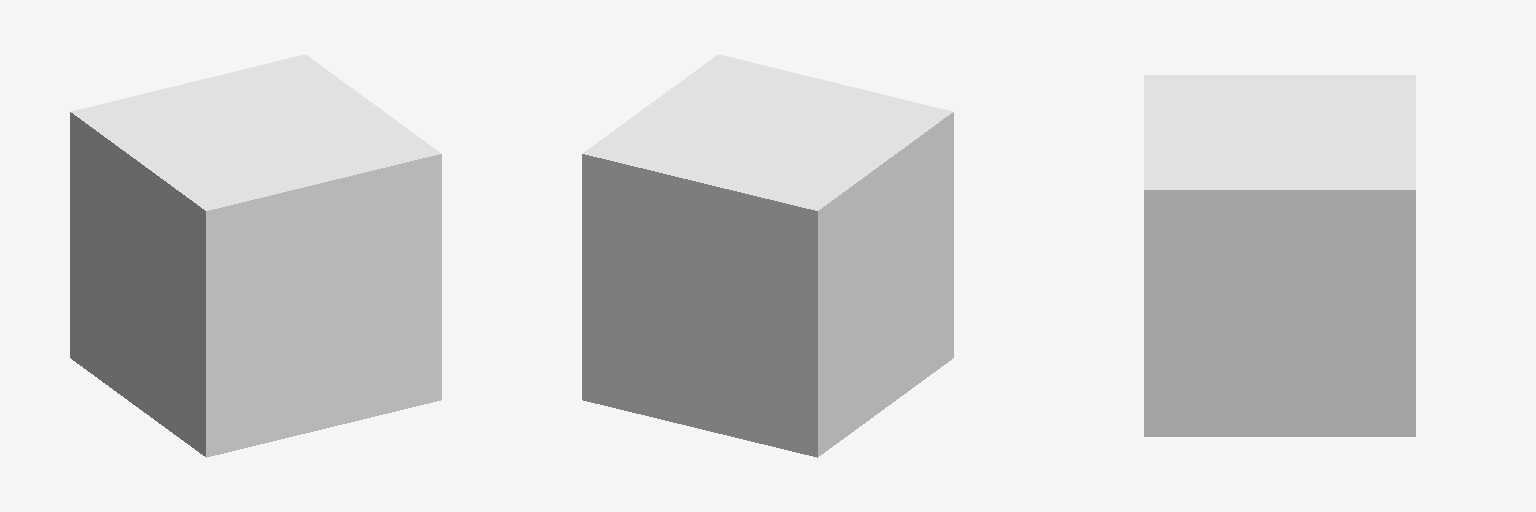
Rendered from bloco.obj.
The picture shows the model from 3 angles: view 1: azimuth 30°, elevation 25°; view 2: azimuth 150°, elevation 25°; view 3: azimuth 270°, elevation 25°; orthographic projection.
Parts seen in each view (by area): view 1: object 1; view 2: object 1; view 3: object 1.
Boxes of the visible parts, x1=… form: object 1: x1=70, y1=54, x2=441, y2=457; object 1: x1=582, y1=54, x2=953, y2=457; object 1: x1=1144, y1=75, x2=1415, y2=436.
Size of the model in its own units: 4 by 4 by 4.